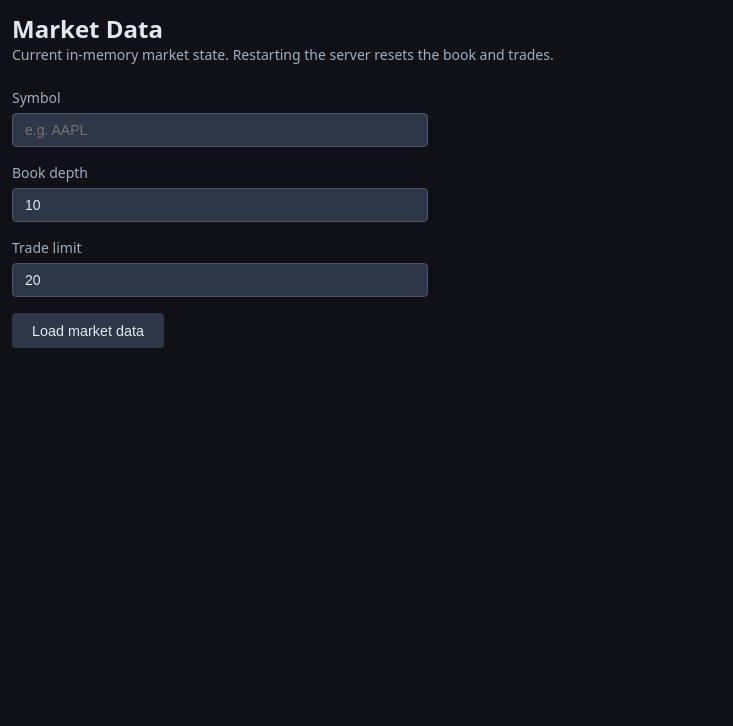
Test case: MarketView – success state › renders Recent Trades heading and trade data
Type "AAPL" into the field labelled "Symbol" at {"x": 220, "y": 130}, box [12,113,428,147]
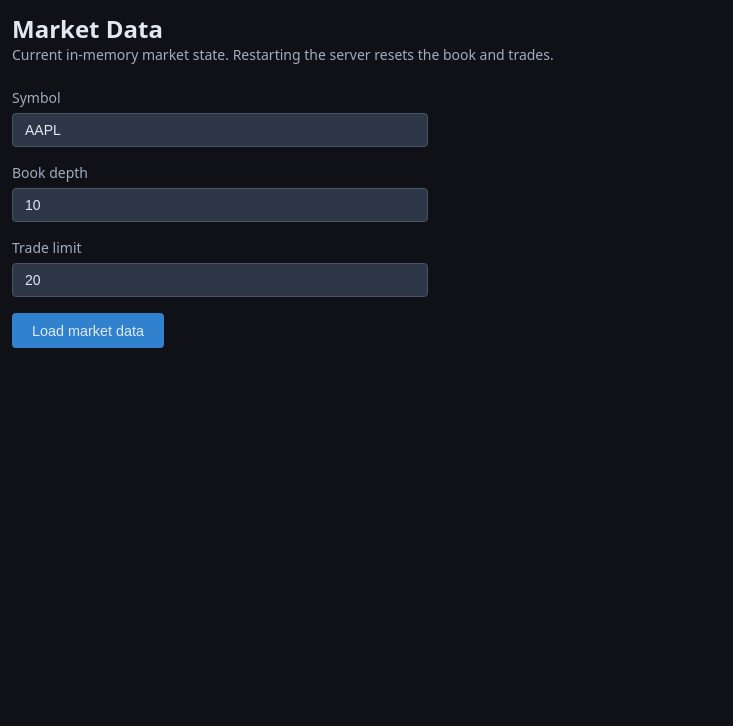
Click the button at {"x": 88, "y": 331}, box [12,313,164,348]
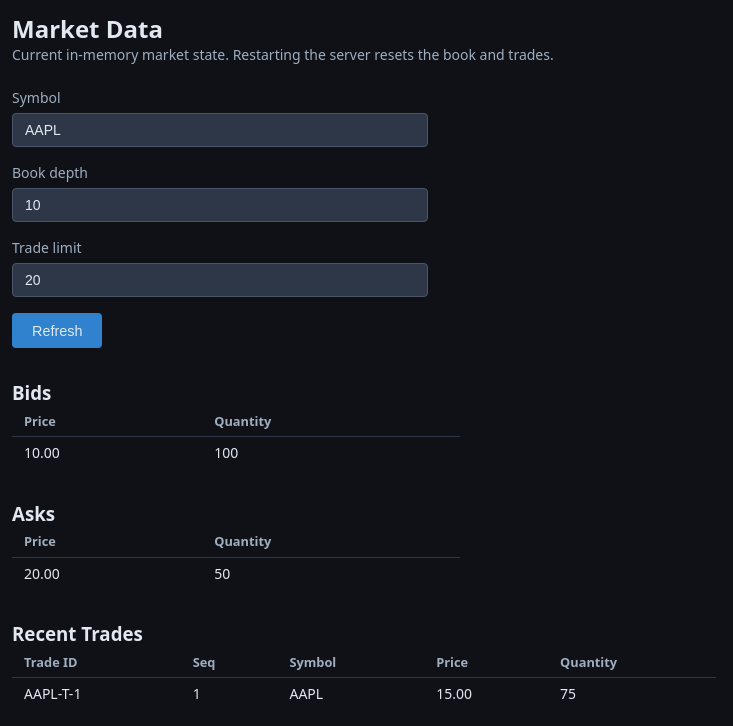
Check: the heading "Bids" is shown, box [12,380,51,405]
Check: the heading "Recent Trades" is shown, box [12,621,143,646]
Check: the text "AAPL-T-1" is shown, box [12,678,181,710]
